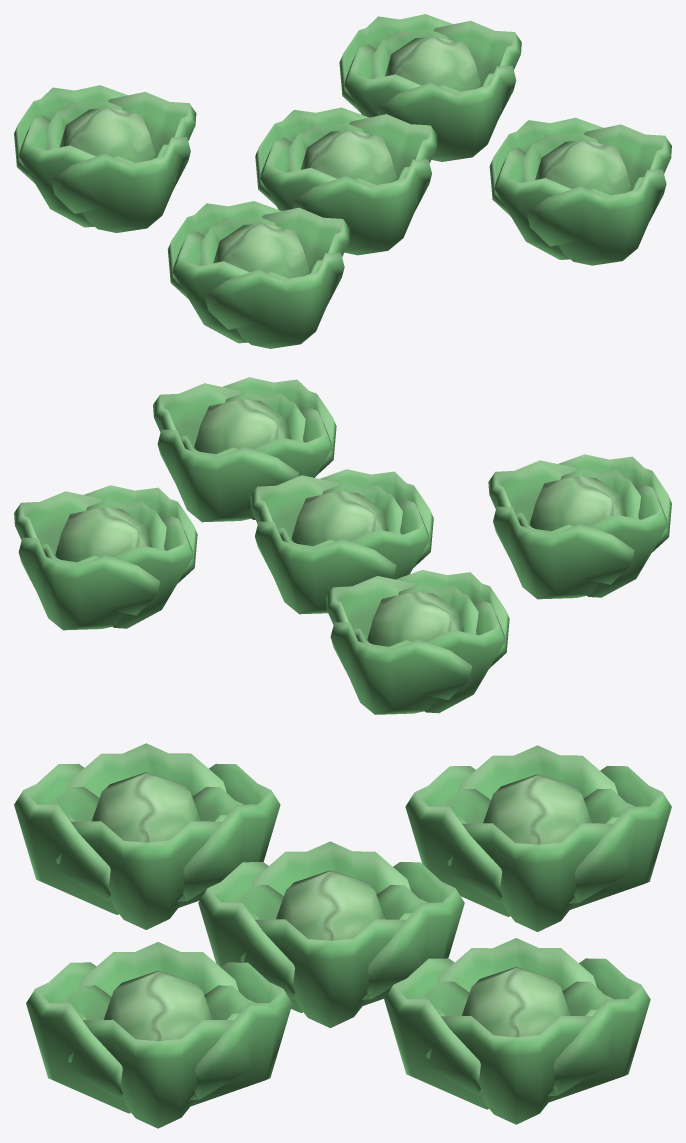
Rendered from Crops_Cabbage.fbx.
3 views of the same model, one above another, from view 1: azimuth 30°, elevation 25°; view 2: azimuth 150°, elevation 25°; view 3: azimuth 270°, elevation 25° (orthographic). The views are drawn at different scales.
Parts seen in each view (by area): view 1: Cabbage.003, Cabbage.004, Cabbage.002, Cabbage, Cabbage.001; view 2: Cabbage.001, Cabbage.002, Cabbage.004, Cabbage.003, Cabbage; view 3: Cabbage.001, Cabbage.003, Cabbage.004, Cabbage.002, Cabbage.
Boxes of the visible parts, left/top/right/bottom form: Cabbage.003: left=489, top=117, right=671, bottom=265; Cabbage.004: left=14, top=85, right=196, bottom=232; Cabbage.002: left=167, top=201, right=349, bottom=348; Cabbage: left=255, top=107, right=437, bottom=255; Cabbage.001: left=339, top=14, right=521, bottom=161; Cabbage.001: left=14, top=485, right=197, bottom=630; Cabbage.002: left=488, top=454, right=671, bottom=599; Cabbage.004: left=326, top=570, right=509, bottom=714; Cabbage.003: left=153, top=377, right=336, bottom=522; Cabbage: left=250, top=469, right=433, bottom=614; Cabbage.001: left=384, top=938, right=650, bottom=1124; Cabbage.003: left=26, top=942, right=292, bottom=1128; Cabbage.004: left=405, top=745, right=671, bottom=931; Cabbage.002: left=14, top=743, right=280, bottom=929; Cabbage: left=198, top=841, right=464, bottom=1027.
Bounding box in the file's own units: 452 × 98 × 411.
